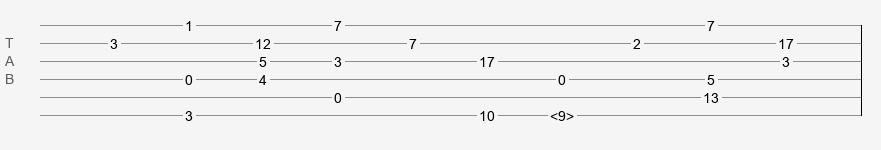0: (185, 72, 193, 82), (334, 90, 342, 100), (558, 72, 566, 82)
1: (185, 18, 193, 28)
10: (479, 108, 495, 118)
12: (255, 36, 271, 46)
13: (703, 90, 719, 100)
17: (479, 54, 495, 64), (778, 36, 794, 46)
2: (633, 36, 641, 46)
3: (110, 36, 118, 46), (185, 108, 193, 118), (334, 54, 342, 64), (782, 54, 790, 64)
4: (259, 72, 267, 82)
5: (259, 54, 267, 64), (707, 72, 715, 82)
7: (334, 18, 342, 28), (409, 36, 417, 46), (707, 18, 715, 28)
harmonic: (550, 108, 574, 118)
